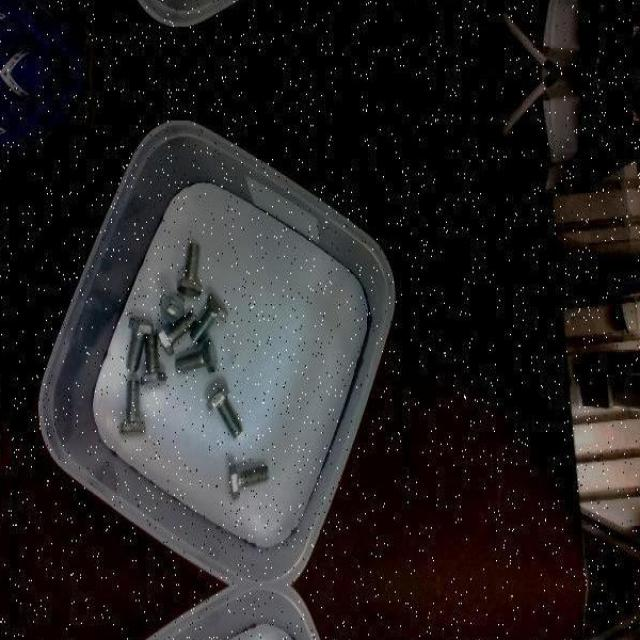screw: (206, 384, 243, 438), (190, 294, 228, 344), (156, 311, 197, 357), (126, 316, 155, 373), (229, 463, 270, 500), (175, 338, 218, 372), (177, 241, 203, 297), (120, 379, 146, 434), (140, 332, 166, 387), (160, 290, 185, 323)
